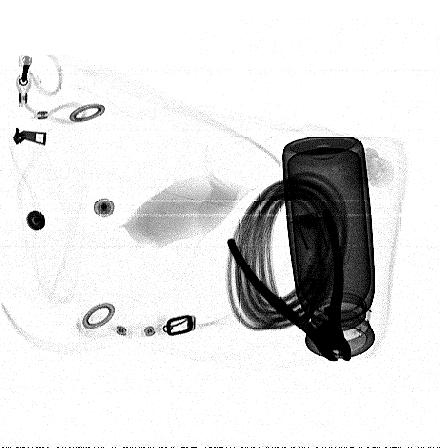Pliers: (226, 205, 354, 362)
